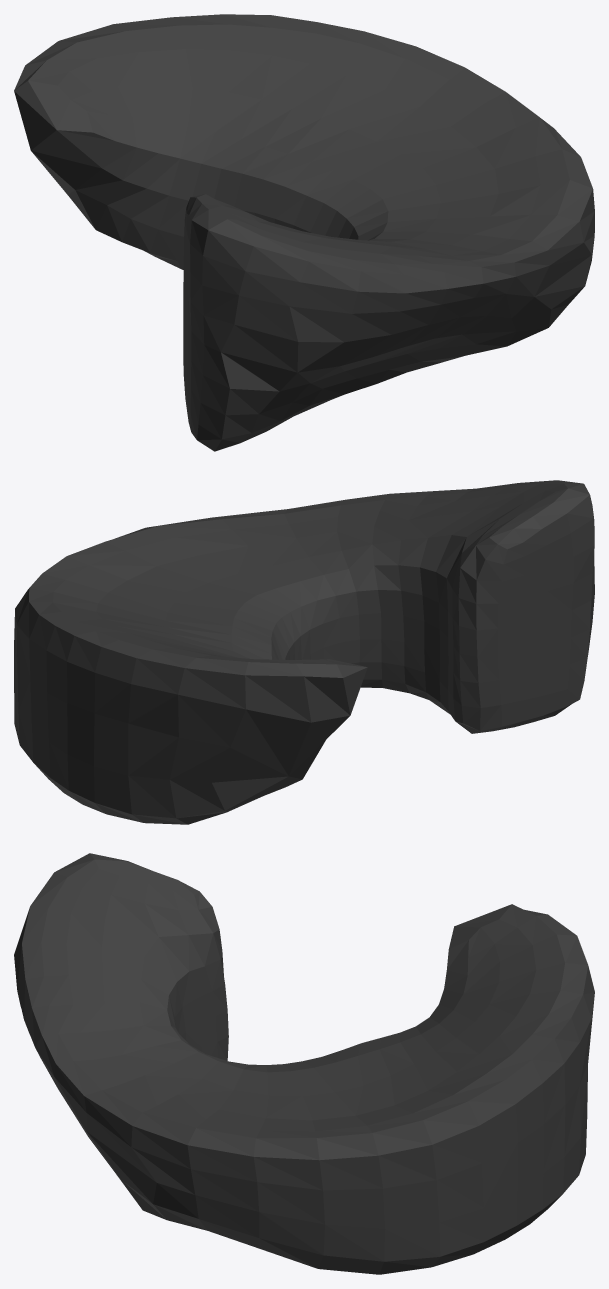
Rendered from Lateral_meniscus.glb.
3 views of the same model, one above another, from view 1: azimuth 30°, elevation 25°; view 2: azimuth 150°, elevation 25°; view 3: azimuth 270°, elevation 25° (orthographic). The views are drawn at different scales.
Visible parts, largest first — view 1: Lateral_meniscus; view 2: Lateral_meniscus; view 3: Lateral_meniscus.
Boxes of the visible parts, x1,y1,x2,y2 form: Lateral_meniscus: (14, 14, 594, 451); Lateral_meniscus: (14, 480, 594, 824); Lateral_meniscus: (14, 853, 594, 1274).
Size of the model in its own units: 0.5746 by 0.2826 by 0.659.
1 material, 1 textured.
